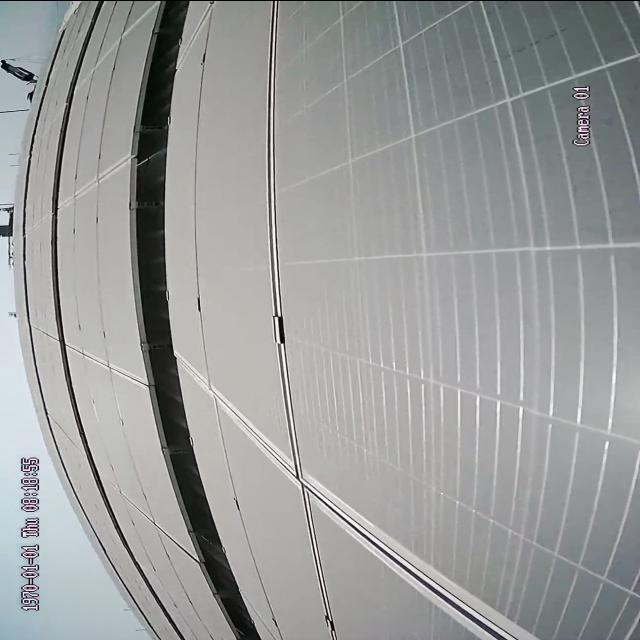interior panel: (182, 9, 532, 640), (114, 487, 189, 553), (68, 155, 122, 206), (74, 345, 140, 385)
outher panel: (129, 6, 268, 640)
